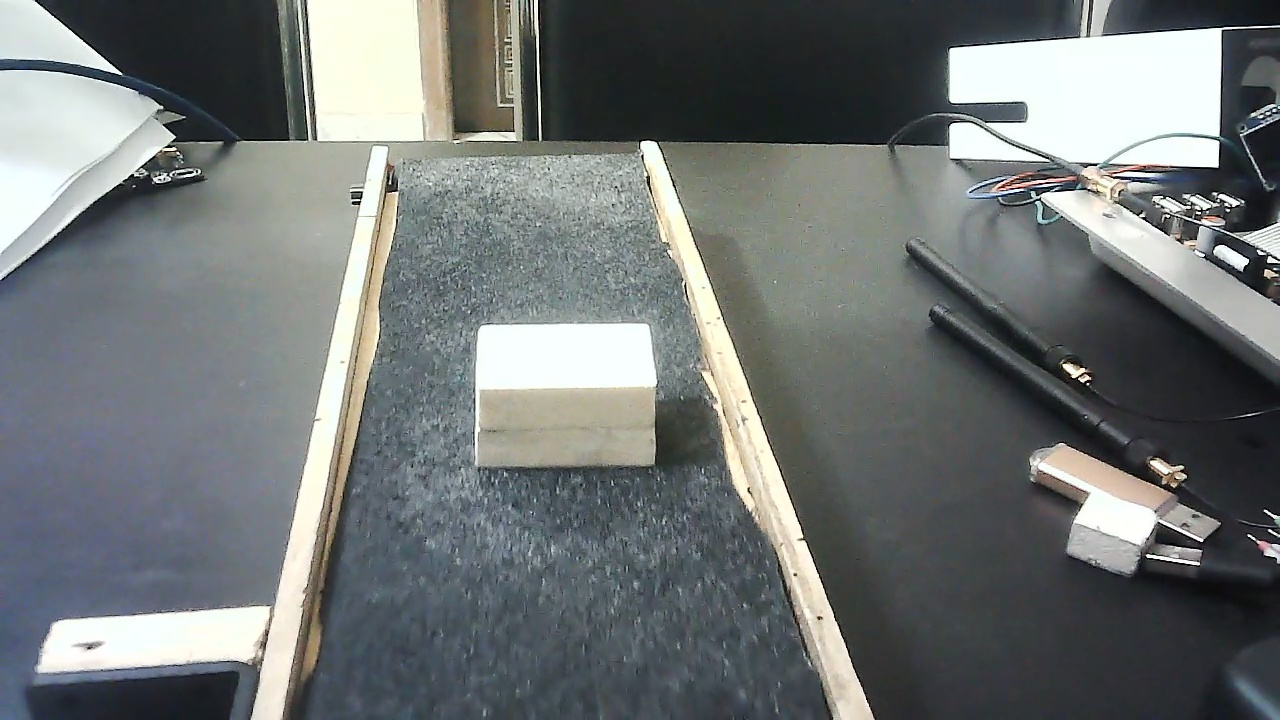BIG: (473, 306, 656, 489)
